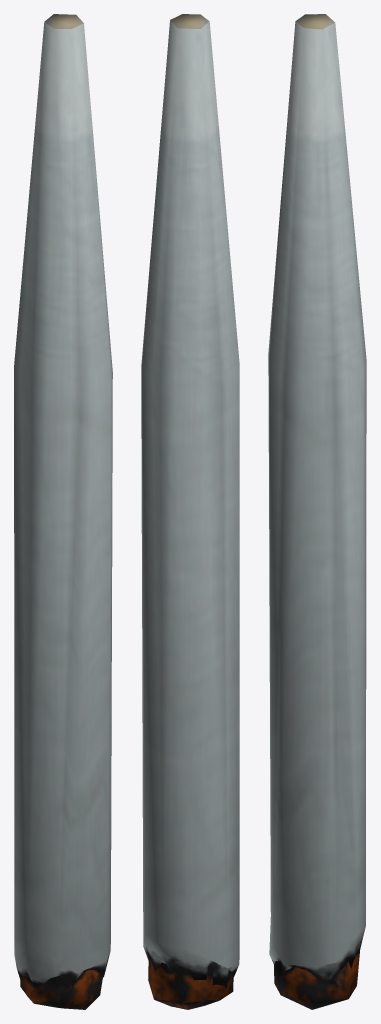
File: SpliffLit.fbx
The picture shows the model from 3 angles, left to right: view 1: azimuth 30°, elevation 25°; view 2: azimuth 210°, elevation 25°; view 3: azimuth 330°, elevation 25°; orthographic projection.
Visible parts, largest first — view 1: ember; view 2: ember; view 3: ember.
Boxes of the visible parts, x1,y1,x2,y2 form: ember: (14, 14, 112, 1009); ember: (141, 14, 239, 1009); ember: (268, 14, 366, 1009).
Size of the model in its own units: 0.00672 by 0.075 by 0.00676.
